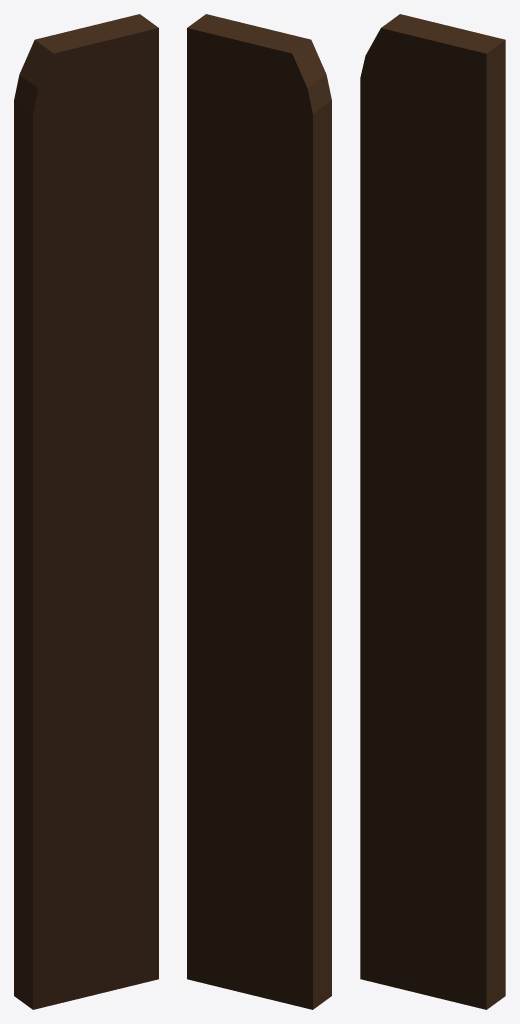
File: Cave_Lair_Wooden_Timber_Plank_06.fbx
3 renders of one model, left to right at view 1: azimuth 30°, elevation 25°; view 2: azimuth 150°, elevation 25°; view 3: azimuth 330°, elevation 25°, orthographic.
Parts seen in each view (by area): view 1: Cave_Lair_Wooden_Timber_Plank_06; view 2: Cave_Lair_Wooden_Timber_Plank_06; view 3: Cave_Lair_Wooden_Timber_Plank_06.
Part boxes in pixels (left/top/right/bottom): Cave_Lair_Wooden_Timber_Plank_06: left=14, top=14, right=158, bottom=1009; Cave_Lair_Wooden_Timber_Plank_06: left=187, top=14, right=331, bottom=1009; Cave_Lair_Wooden_Timber_Plank_06: left=360, top=14, right=505, bottom=1009.
Size of the model in its own units: 0.1786 by 1.29 by 0.0468.
